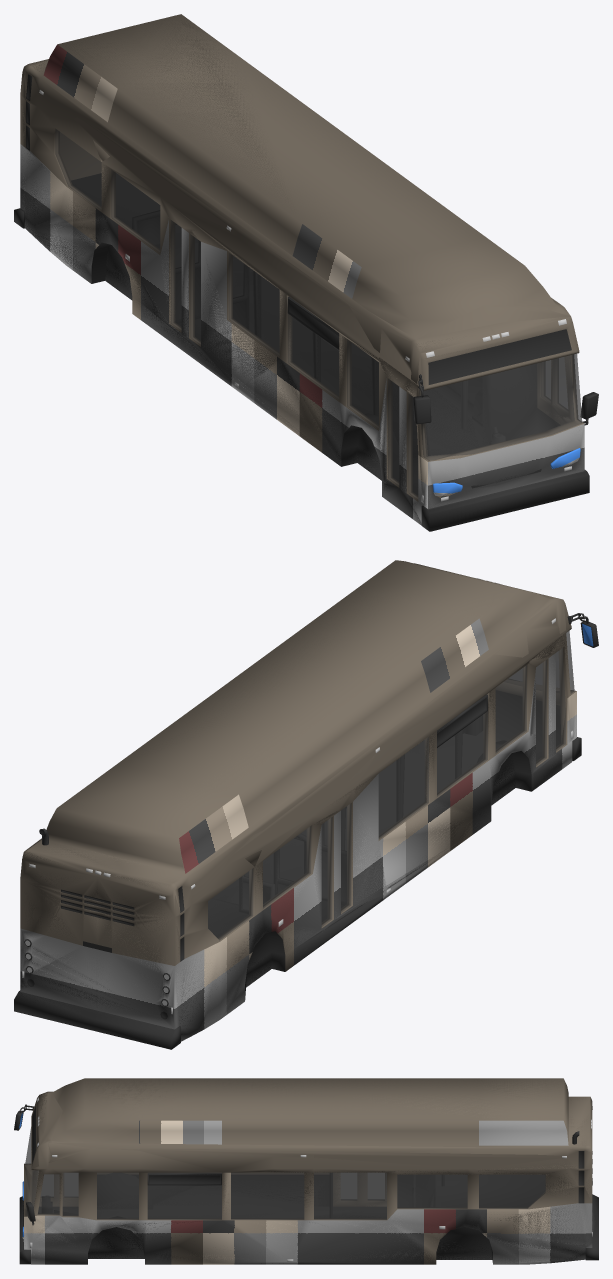
3 views of the same model, one above another, from view 1: azimuth 30°, elevation 25°; view 2: azimuth 150°, elevation 25°; view 3: azimuth 270°, elevation 25° (orthographic). The views are drawn at different scales.
Visible parts, largest first — view 1: Model_0, Model_1, Extra_1; view 2: Model_0, Model_1, Extra_1; view 3: Model_0, Model_1, Extra_1.
Boxes of the visible parts, box(x1,y1,x2,y2) form: Model_0: box(14, 14, 598, 531); Model_1: box(14, 14, 589, 531); Extra_1: box(55, 128, 582, 499); Model_0: box(14, 560, 598, 1049); Model_1: box(14, 560, 593, 1048); Extra_1: box(208, 630, 574, 940); Model_0: box(14, 1078, 598, 1264); Model_1: box(18, 1078, 597, 1264); Extra_1: box(25, 1127, 545, 1219).
Bounding box in the file's own units: 312 × 309 × 1183.
